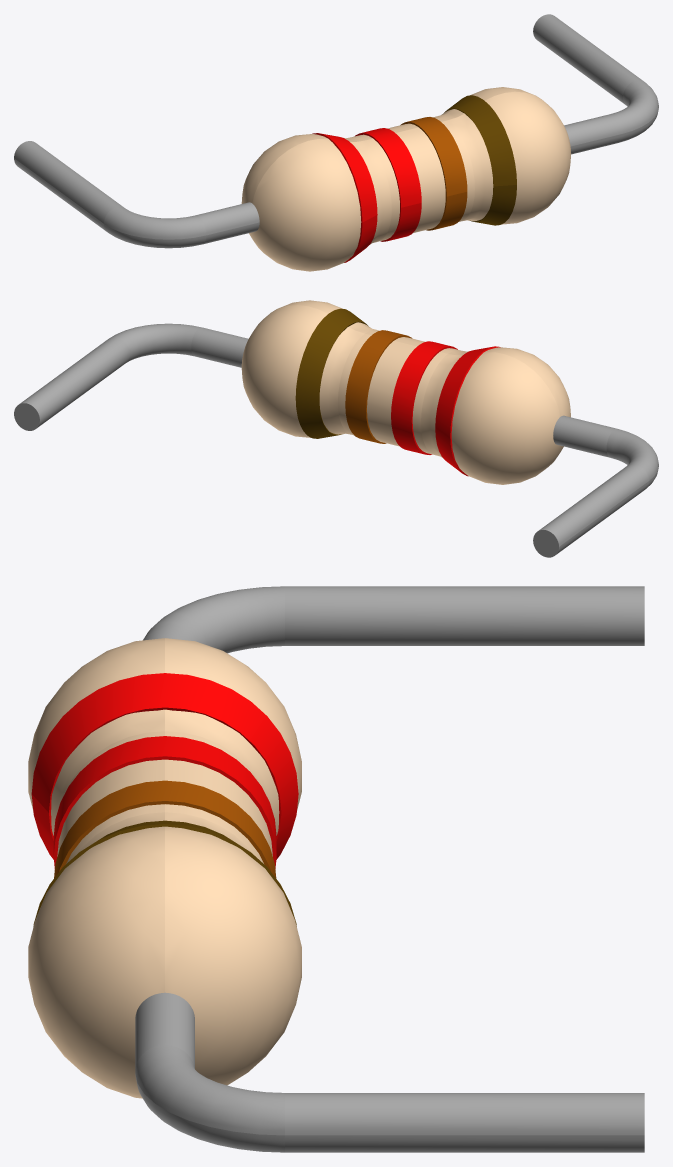
Rendered from resistor.glb.
The picture shows the model from 3 angles, top to bottom: view 1: azimuth 30°, elevation 25°; view 2: azimuth 150°, elevation 25°; view 3: azimuth 270°, elevation 25°; orthographic projection. The views are drawn at different scales.
Parts seen in each view (by area): view 1: Resistor-body, pins, Ring-4, Ring-3, Ring-2, Ring-1; view 2: Resistor-body, pins, Ring-4, Ring-3, Ring-2, Ring-1; view 3: Resistor-body, pins, Ring-1, Ring-2, Ring-3, Ring-4.
Boxes of the visible parts, box(x1,y1,x2,y2) form: Resistor-body: box(241, 87, 571, 271); pins: box(14, 14, 658, 248); Ring-4: box(444, 95, 516, 225); Ring-3: box(400, 117, 467, 230); Ring-2: box(355, 128, 421, 241); Ring-1: box(312, 133, 377, 262); Resistor-body: box(241, 300, 570, 484); pins: box(14, 323, 658, 557); Ring-4: box(295, 308, 367, 438); Ring-3: box(345, 330, 412, 443); Ring-2: box(391, 341, 457, 454); Ring-1: box(435, 346, 500, 476); Resistor-body: box(28, 638, 301, 1098); pins: box(135, 586, 644, 1152); Ring-1: box(31, 673, 298, 859); Ring-2: box(53, 736, 276, 868); Ring-3: box(54, 780, 276, 878); Ring-4: box(33, 820, 296, 926).
Bounding box in the file's own units: 10.5 × 2.3 × 5.14.
